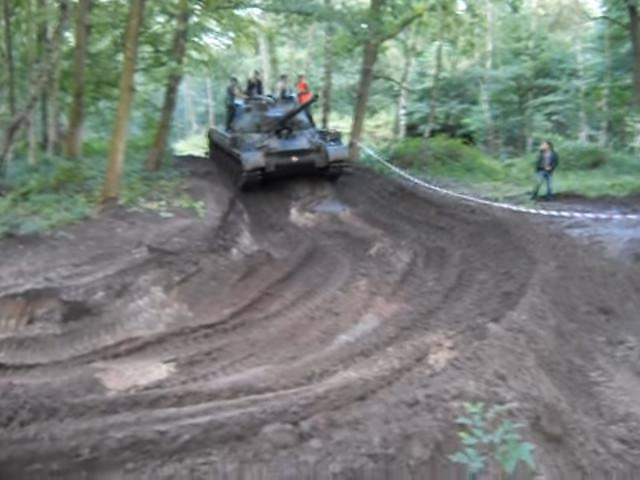tank: (207, 92, 350, 190)
